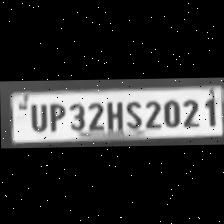0: (159, 96, 179, 127)
1: (200, 95, 220, 126)
2: (179, 94, 199, 127), (84, 99, 104, 130), (142, 97, 160, 128)
3: (64, 99, 86, 130)
H: (102, 97, 122, 130)
P: (44, 99, 66, 130)
S: (122, 97, 142, 128)
U: (25, 100, 47, 131)
